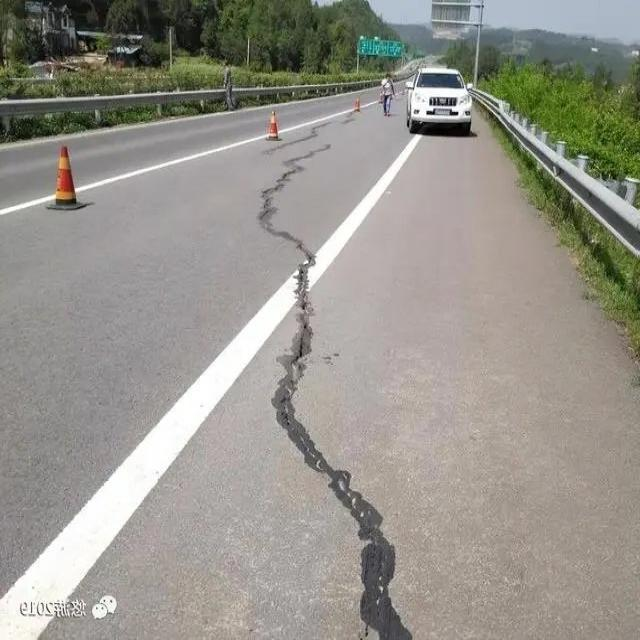pothole: (250, 139, 406, 637)
